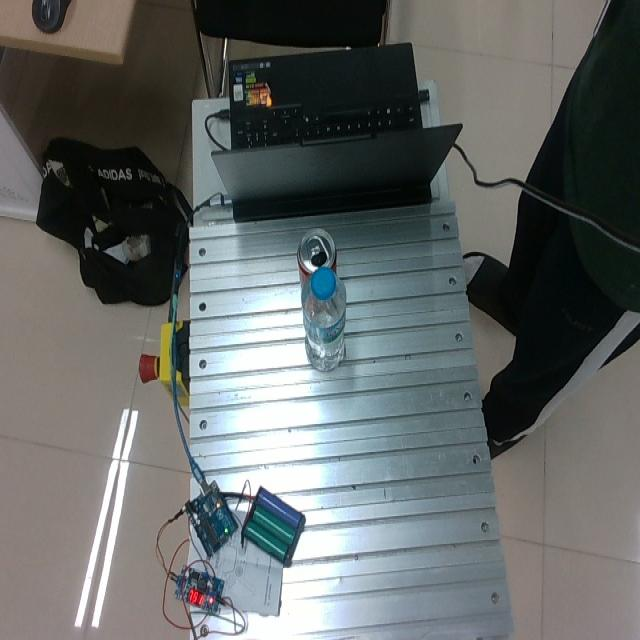coca: (296, 228, 337, 295)
lavie: (300, 262, 347, 370)
